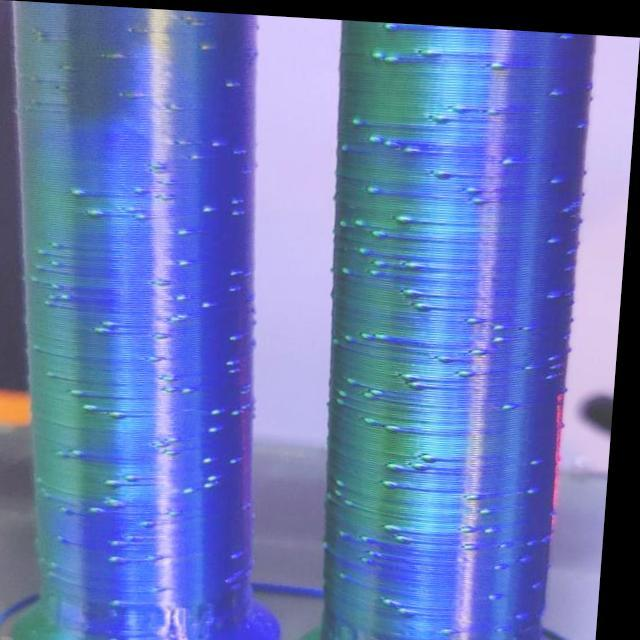zits: (66, 178, 97, 198), (449, 96, 478, 112), (395, 206, 420, 224), (387, 514, 412, 532), (86, 206, 112, 222), (114, 550, 137, 568), (419, 295, 442, 311), (500, 552, 520, 570), (366, 381, 387, 398), (408, 278, 430, 294), (340, 522, 362, 538), (416, 452, 435, 470), (497, 146, 518, 162), (222, 74, 244, 89), (208, 471, 227, 488), (548, 224, 565, 243), (532, 477, 551, 494), (235, 542, 254, 559), (362, 545, 381, 562), (474, 338, 494, 354), (388, 588, 408, 604), (450, 618, 470, 634), (401, 364, 427, 376), (534, 446, 550, 465), (152, 548, 172, 563), (520, 601, 540, 616), (468, 306, 489, 320), (469, 176, 487, 192), (96, 502, 118, 515), (464, 517, 486, 530), (87, 399, 106, 414), (546, 282, 565, 297), (550, 166, 569, 181), (347, 367, 366, 382), (146, 514, 166, 528), (548, 80, 568, 94), (64, 504, 84, 518), (56, 60, 77, 73), (437, 161, 454, 177), (435, 108, 452, 124), (342, 382, 361, 396), (338, 565, 357, 579), (528, 532, 550, 544), (118, 536, 140, 548), (462, 361, 482, 374), (504, 393, 524, 406), (388, 474, 408, 487), (106, 316, 124, 330), (113, 494, 134, 506), (386, 133, 405, 146), (485, 501, 504, 514), (398, 527, 417, 540), (136, 180, 151, 196), (368, 261, 388, 273), (492, 52, 508, 67), (373, 539, 389, 554), (235, 140, 252, 154), (422, 40, 439, 54), (386, 48, 403, 62), (426, 446, 444, 459), (335, 394, 354, 406), (379, 18, 398, 30), (233, 262, 248, 277), (527, 354, 542, 369), (98, 322, 114, 336), (203, 201, 220, 214), (344, 325, 361, 338), (107, 49, 124, 62), (442, 348, 462, 359), (364, 527, 384, 538), (210, 134, 228, 146), (374, 252, 392, 264), (218, 402, 233, 416), (550, 363, 564, 378), (370, 409, 384, 424), (114, 407, 133, 418), (76, 387, 95, 398), (378, 326, 397, 337), (232, 279, 248, 292), (186, 483, 202, 496), (372, 46, 388, 59), (572, 112, 588, 125), (138, 211, 155, 223), (374, 222, 391, 234), (355, 212, 372, 224), (414, 374, 434, 384), (236, 449, 250, 463), (64, 530, 78, 544), (234, 203, 247, 218), (232, 328, 248, 340), (177, 226, 196, 236), (548, 348, 567, 358), (58, 447, 75, 458), (51, 368, 68, 379), (197, 40, 214, 51), (78, 444, 92, 457), (352, 493, 366, 506), (130, 472, 148, 482), (111, 474, 126, 486), (408, 138, 423, 150), (350, 110, 365, 122), (391, 456, 406, 468), (526, 546, 541, 558), (201, 297, 217, 308), (496, 327, 512, 338), (392, 417, 408, 428), (537, 573, 553, 584), (370, 129, 387, 139), (188, 150, 205, 160), (367, 326, 382, 337), (152, 352, 168, 362), (476, 190, 492, 200), (495, 586, 511, 596), (185, 382, 198, 394), (472, 485, 484, 498), (228, 355, 242, 366), (368, 179, 382, 190), (406, 602, 420, 613), (232, 363, 248, 372), (362, 238, 374, 250), (495, 318, 511, 327), (490, 522, 508, 530), (120, 598, 132, 610), (128, 202, 142, 212), (54, 240, 68, 250), (158, 328, 172, 338), (64, 292, 76, 303), (184, 256, 196, 267), (212, 423, 226, 432), (344, 474, 356, 484), (342, 486, 357, 494), (38, 264, 52, 272), (55, 259, 67, 267), (55, 282, 67, 290), (40, 247, 50, 256), (52, 292, 62, 300), (182, 290, 192, 298), (210, 452, 218, 458)
